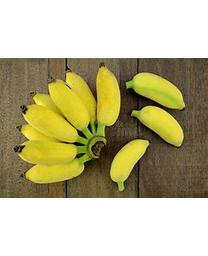banana: (13, 64, 121, 184), (126, 70, 186, 110), (130, 107, 186, 147), (111, 140, 150, 191)
